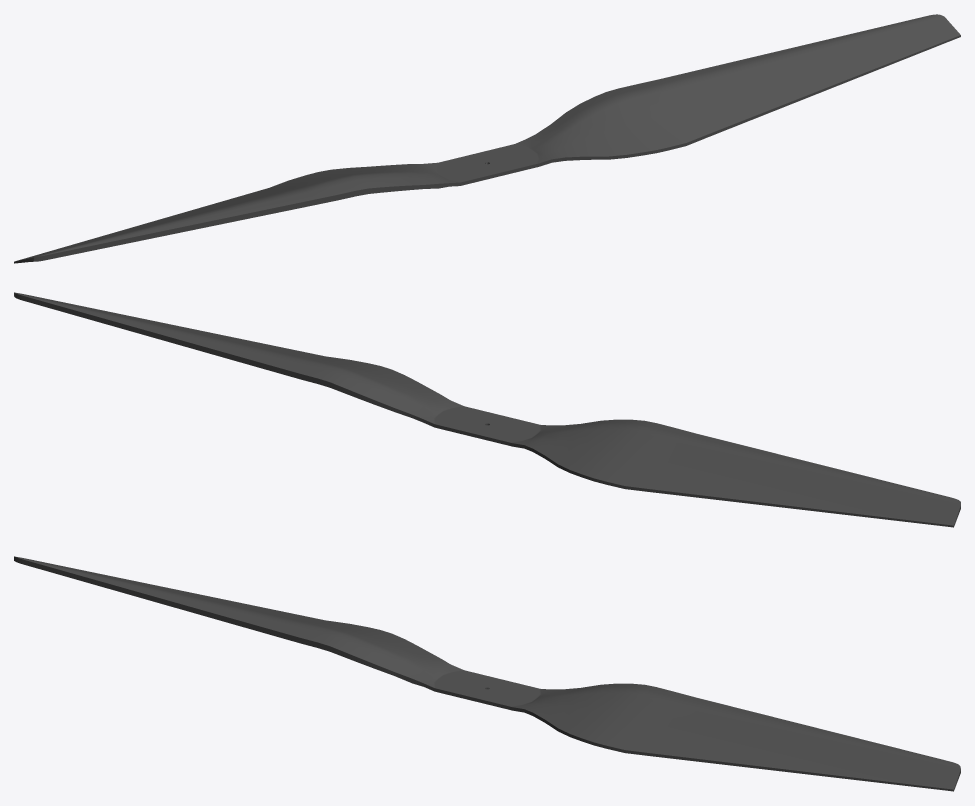
File: Fan.fbx
3 views of the same model, one above another, from view 1: azimuth 30°, elevation 25°; view 2: azimuth 150°, elevation 25°; view 3: azimuth 330°, elevation 25° (orthographic).
Visible parts, largest first — view 1: Fan; view 2: Fan; view 3: Fan.
Boxes of the visible parts, x1,y1,x2,y2 form: Fan: (14,14,960,263); Fan: (14,292,960,527); Fan: (14,556,960,791).
Bounding box in the file's own units: 8.6 × 269 × 30.79.
